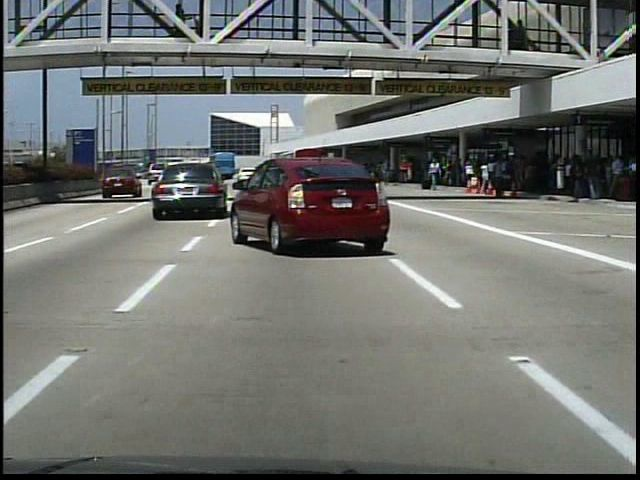person: (491, 155, 510, 205), (428, 159, 445, 193), (171, 6, 187, 39), (404, 160, 415, 185)
